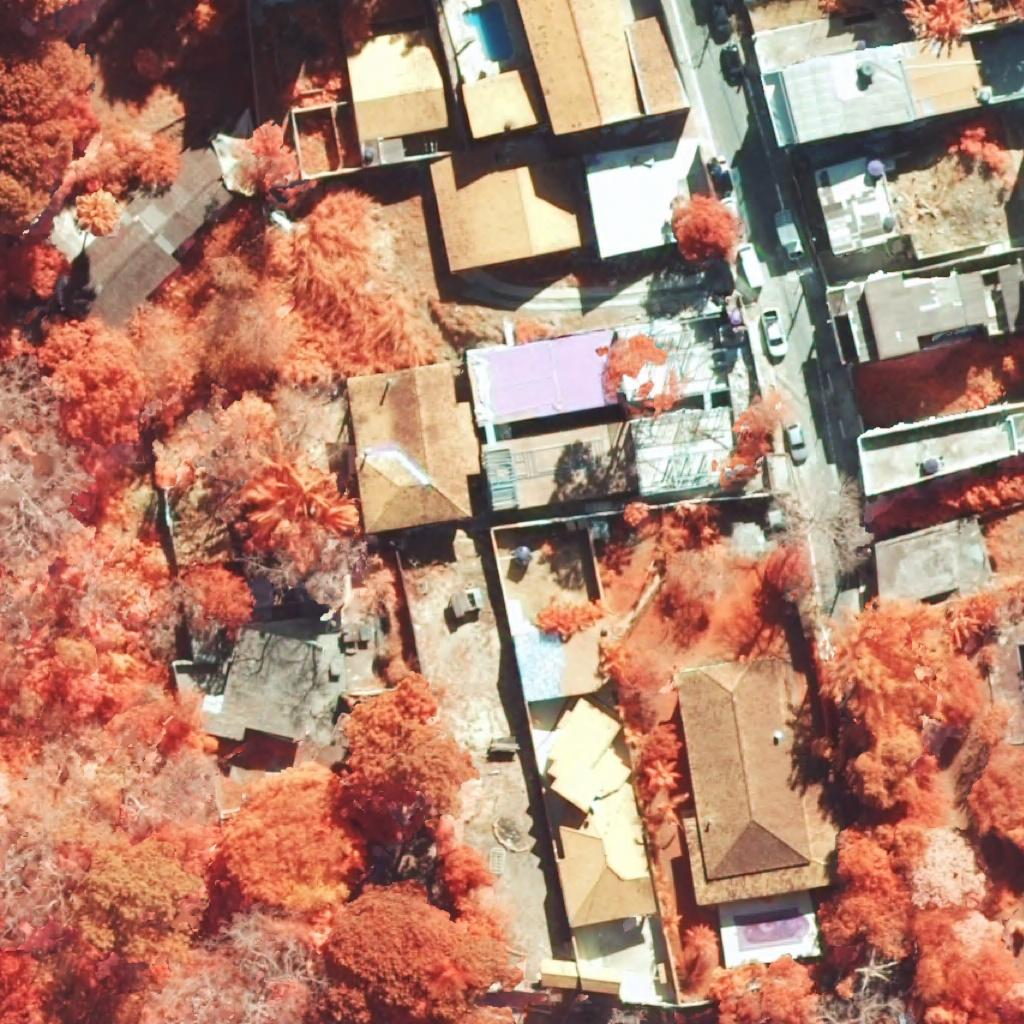pool: (463, 2, 515, 62)
